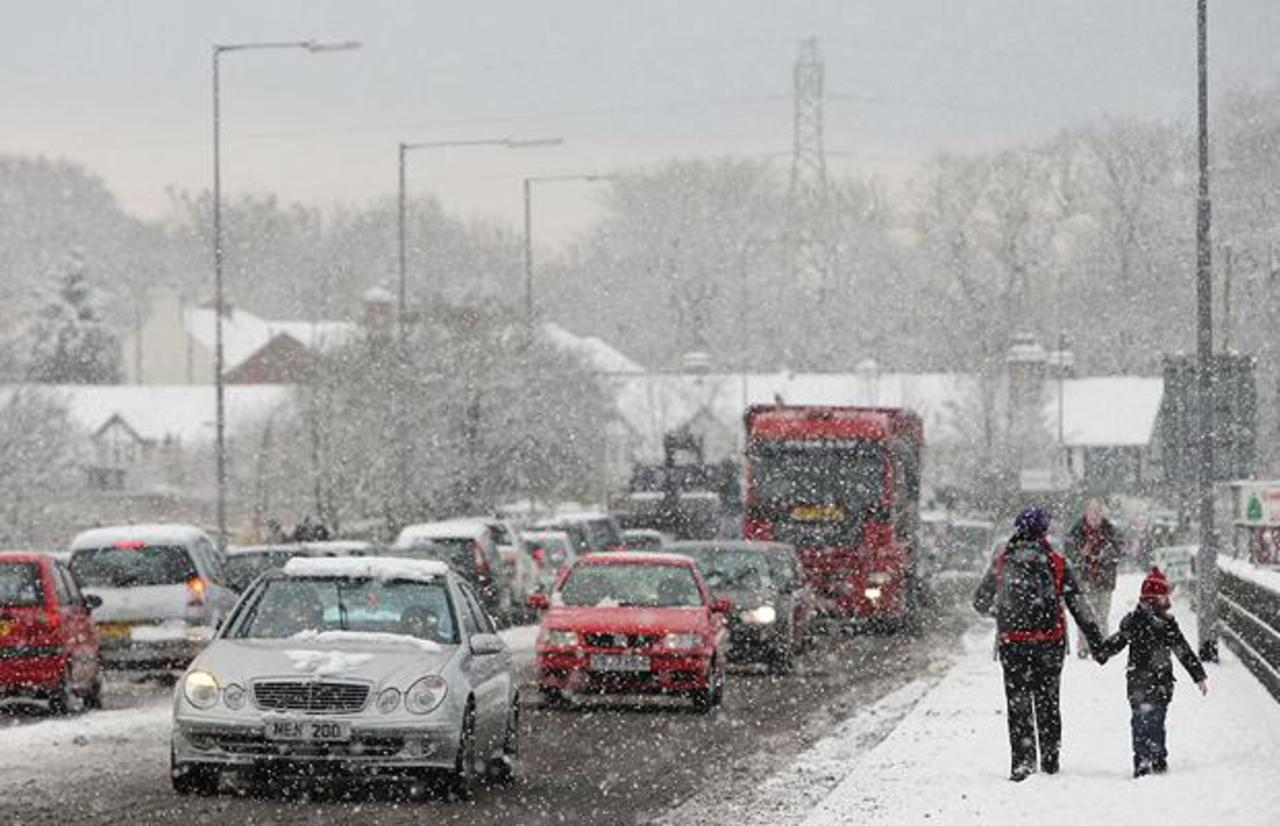car: (168, 552, 533, 804), (539, 549, 722, 713), (62, 525, 233, 675), (0, 549, 108, 719), (683, 547, 786, 678), (391, 521, 520, 623), (766, 543, 814, 654), (522, 526, 567, 588)
person: (972, 502, 1107, 776), (1099, 568, 1214, 779), (1063, 498, 1120, 659)
truck: (745, 405, 924, 638)
